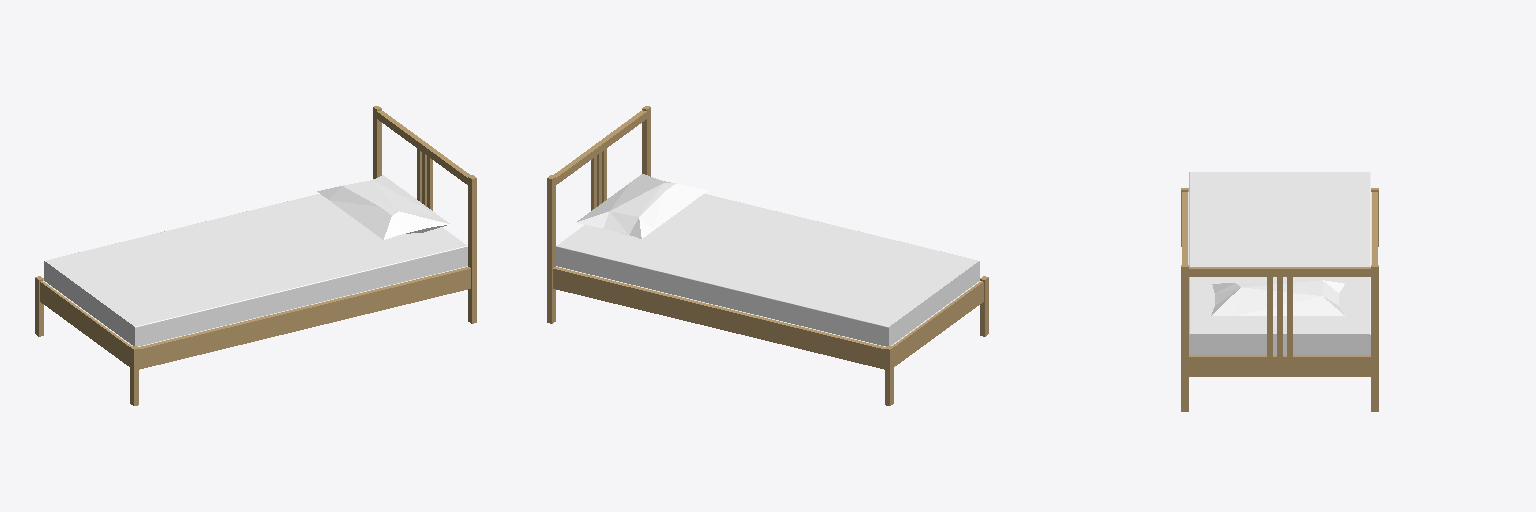
The picture shows the model from 3 angles: view 1: azimuth 30°, elevation 25°; view 2: azimuth 150°, elevation 25°; view 3: azimuth 270°, elevation 25°; orthographic projection.
Visible parts, largest first — view 1: Mesh2 Model, Mesh1 Pillow1 Model; view 2: Mesh2 Model, Mesh1 Pillow1 Model; view 3: Mesh2 Model, Mesh1 Pillow1 Model.
Part boxes in pixels (bbox=[...]): Mesh2 Model: bbox=[35, 106, 476, 405]; Mesh1 Pillow1 Model: bbox=[317, 175, 449, 239]; Mesh2 Model: bbox=[547, 106, 988, 405]; Mesh1 Pillow1 Model: bbox=[576, 174, 707, 238]; Mesh2 Model: bbox=[1181, 172, 1378, 411]; Mesh1 Pillow1 Model: bbox=[1211, 280, 1344, 315].
Size of the model in its own units: 1.96 by 0.79 by 0.98.